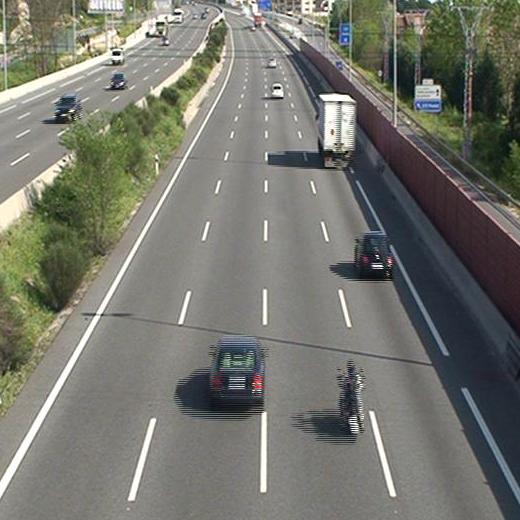car: (210, 337, 265, 403), (357, 234, 393, 277), (270, 84, 284, 98), (267, 58, 277, 68)
motorcycle: (338, 363, 366, 435)
small-truck: (316, 95, 355, 167)
